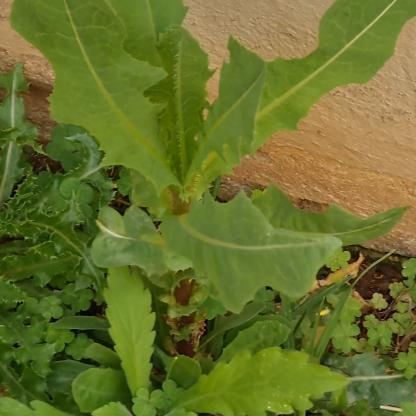Weeds: (8, 0, 415, 317), (1, 257, 355, 415), (0, 64, 117, 415)
